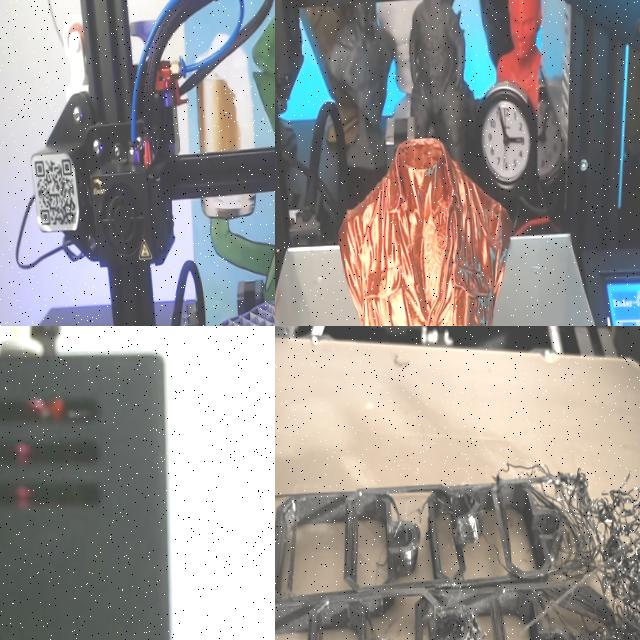spaghetti: (527, 442, 640, 640), (386, 346, 422, 386)
